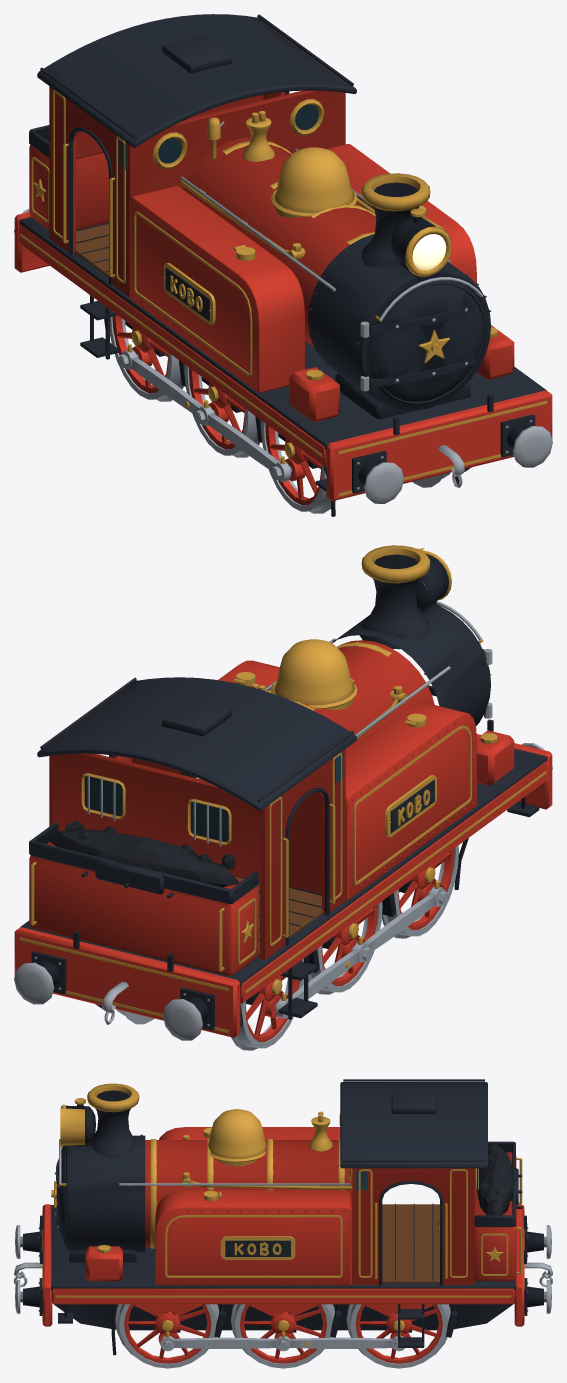
The model's file is kobo.glb.
3 views of the same model, one above another, from view 1: azimuth 30°, elevation 25°; view 2: azimuth 150°, elevation 25°; view 3: azimuth 270°, elevation 25° (orthographic). The views are drawn at different scales.
Visible parts, largest first — view 1: kobo Engine red, kobo Engine black, kobo Brass, kobo Steel, Rod Steel, Wheel1 Engine red, Wheel3 Engine red, Wheel1 Steel, Wheel2 Engine red, kobo Cab oak, kobo Cab glass, Wheel2 Steel (+2 smaller); view 2: kobo Engine red, kobo Engine black, kobo Brass, kobo Coal, kobo Steel, Rod Steel, kobo Cab glass, Wheel1 Engine red, Wheel3 Engine red, Wheel2 Engine red, kobo Cab oak, Wheel3 Steel (+2 smaller); view 3: kobo Engine red, kobo Engine black, kobo Brass, kobo Cab oak, Rod Steel, Wheel1 Engine red, kobo Steel, Wheel2 Engine red, Wheel3 Engine red, kobo Coal, Wheel1 Steel, Wheel3 Steel (+1 smaller).
Boxes of the visible parts, x1,y1,x2,y2 form: kobo Engine red: [14, 23, 552, 500]; kobo Engine black: [19, 14, 546, 516]; kobo Brass: [20, 90, 547, 496]; kobo Steel: [14, 121, 552, 503]; Rod Steel: [122, 350, 290, 481]; Wheel1 Engine red: [265, 424, 321, 505]; Wheel3 Engine red: [112, 315, 168, 393]; Wheel1 Steel: [261, 420, 450, 513]; Wheel2 Engine red: [189, 368, 245, 449]; kobo Cab oak: [74, 224, 108, 277]; kobo Cab glass: [119, 104, 318, 170]; Wheel2 Steel: [184, 365, 260, 457]; kobo Engine red: [14, 640, 552, 1037]; kobo Engine black: [20, 554, 547, 1030]; kobo Brass: [19, 545, 546, 1033]; kobo Coal: [49, 820, 239, 887]; kobo Steel: [14, 601, 552, 1040]; Rod Steel: [276, 886, 444, 1018]; kobo Cab glass: [85, 752, 343, 841]; Wheel1 Engine red: [398, 849, 454, 929]; Wheel3 Engine red: [245, 961, 300, 1041]; Wheel2 Engine red: [321, 905, 377, 985]; kobo Cab oak: [235, 877, 323, 955]; Wheel3 Steel: [116, 958, 303, 1050]; kobo Engine red: [42, 1127, 524, 1326]; kobo Engine black: [23, 1079, 543, 1355]; kobo Brass: [42, 1083, 524, 1320]; kobo Cab oak: [382, 1204, 439, 1283]; Rod Steel: [160, 1336, 404, 1351]; Wheel1 Engine red: [124, 1304, 211, 1363]; kobo Steel: [14, 1139, 552, 1313]; Wheel2 Engine red: [240, 1304, 326, 1363]; Wheel3 Engine red: [355, 1304, 442, 1363]; kobo Coal: [477, 1142, 514, 1215]; Wheel1 Steel: [115, 1304, 219, 1368]; Wheel3 Steel: [346, 1304, 450, 1368].
Bounding box in the file's own units: 2.68 × 3.76 × 7.22.
